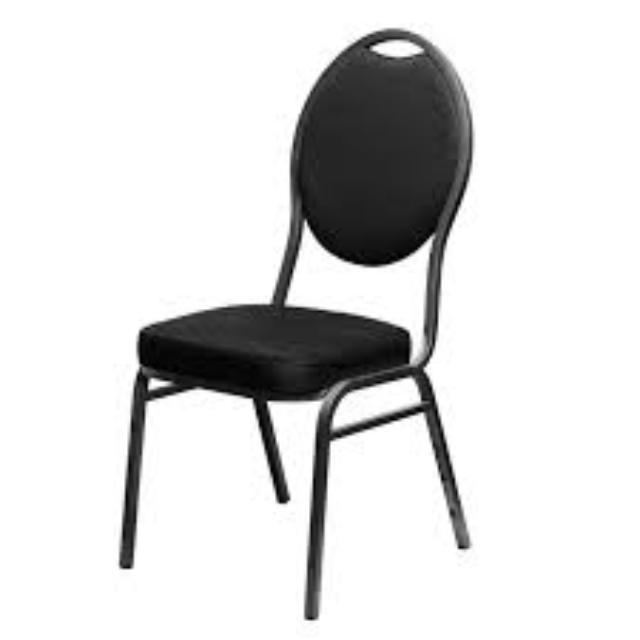obstacle: (75, 14, 548, 626)
